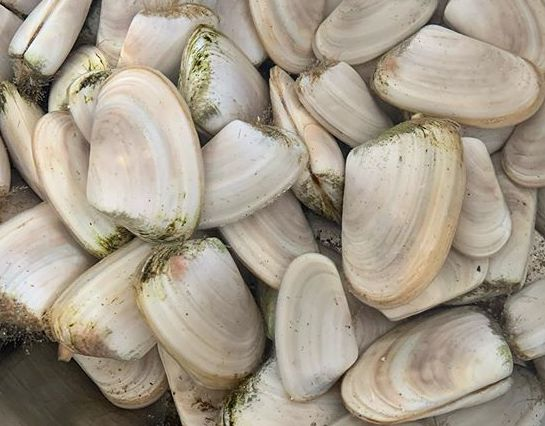tuatua: (339, 115, 467, 310), (83, 64, 210, 246), (336, 304, 517, 419), (133, 236, 267, 386), (369, 21, 542, 124), (38, 240, 158, 365), (29, 102, 115, 263), (266, 62, 346, 229), (273, 250, 361, 400), (201, 117, 307, 228), (177, 20, 274, 136), (292, 56, 384, 146), (309, 2, 437, 66), (461, 134, 514, 263), (117, 4, 213, 68)
